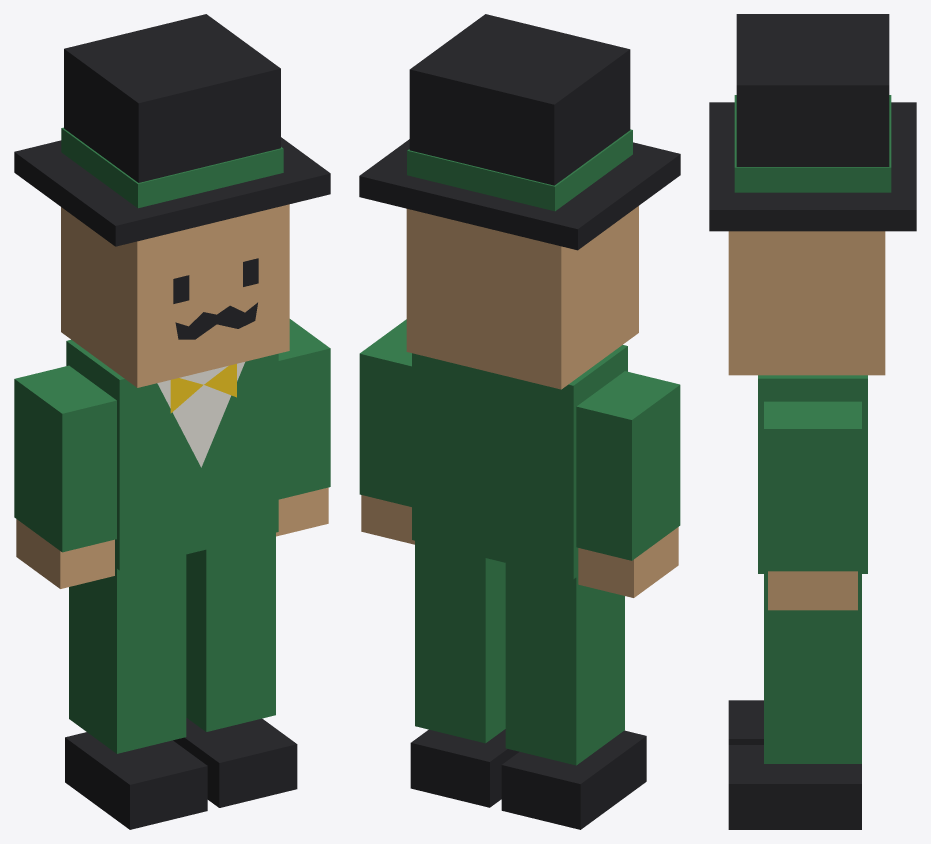
File: Magnate.fbx
3 views of the same model, side by side, from view 1: azimuth 30°, elevation 25°; view 2: azimuth 150°, elevation 25°; view 3: azimuth 270°, elevation 25° (orthographic). The views are drawn at different scales.
Parts seen in each view (by area): view 1: Cabeza, Sombrero_Copa, Cuerpo, Pantalon_L, Manga_L, Pantalon_R, Sombrero_Ala, Zapato_L, Manga_R, Zapato_R, Sombrero_Cinta, Mano_L (+6 smaller); view 2: Cuerpo, Cabeza, Sombrero_Copa, Pantalon_L, Manga_L, Pantalon_R, Sombrero_Ala, Zapato_L, Manga_R, Zapato_R, Sombrero_Cinta, Mano_L (+1 smaller); view 3: Sombrero_Copa, Cabeza, Manga_R, Pantalon_R, Sombrero_Ala, Zapato_R, Cuerpo, Sombrero_Cinta, Mano_R, Zapato_L.
Boxes of the visible parts, x1,y1,x2,y2 form: Cabeza: (61,204,289,387); Sombrero_Copa: (64,14,280,182); Cuerpo: (66,339,278,570); Pantalon_L: (69,554,186,753); Manga_L: (14,365,116,552); Pantalon_R: (186,532,275,731); Sombrero_Ala: (14,137,330,246); Zapato_L: (65,732,207,829); Manga_R: (278,319,330,499); Zapato_R: (173,718,297,807); Sombrero_Cinta: (61,127,283,208); Mano_L: (16,519,114,588); Cuerpo: (412,345,627,579); Cabeza: (406,206,638,389); Sombrero_Copa: (409,14,630,185); Pantalon_L: (505,563,624,765); Manga_L: (576,371,680,560); Pantalon_R: (415,541,505,743); Sombrero_Ala: (359,139,680,250); Zapato_L: (501,730,646,829); Manga_R: (359,319,411,506); Zapato_R: (410,729,519,807); Sombrero_Cinta: (407,129,632,211); Mano_L: (578,527,678,597); Sombrero_Copa: (736,14,889,166); Cabeza: (728,231,885,375); Manga_R: (764,401,861,571); Pantalon_R: (764,572,861,763); Sombrero_Ala: (709,102,916,231); Zapato_R: (728,745,861,829); Cuerpo: (758,375,867,573); Sombrero_Cinta: (734,95,891,192); Mano_R: (768,571,857,610); Zapato_L: (728,700,763,744).
Bounding box in the file's own units: 0.81 × 2.08 × 0.53.
